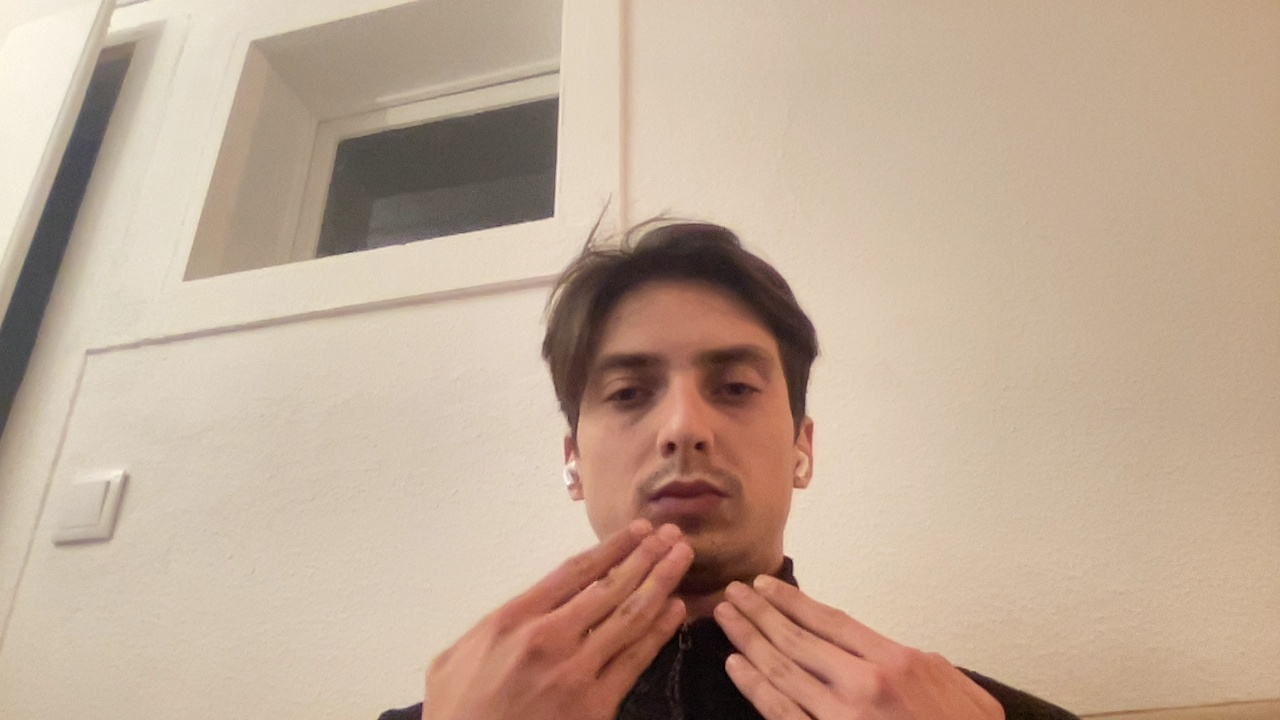Thank you: (392, 503, 699, 717), (710, 535, 1045, 720)
